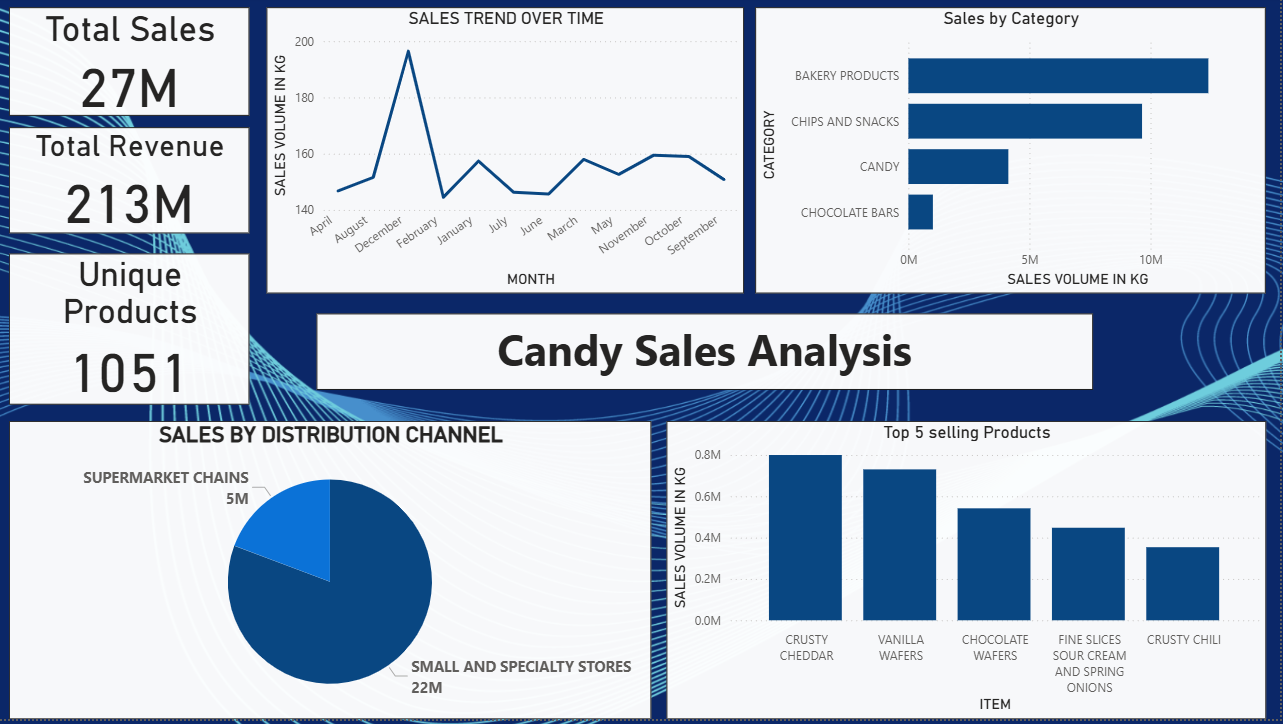

What the dashboard file says about the page in this screenshot:
{"tool":"powerbi","page":{"name":"Page 1","canvas":[1280,720],"ordinal":0},"visuals":[{"type":"clusteredColumnChart","title":"Top 5 selling Products","fields":{"Category":["Data.ITEM"],"Y":["Sum(Data.SALES VOLUME IN KG)"]},"box":[669.8,423.3,596.5,296.5],"z":0},{"type":"lineChart","title":"SALES TREND OVER TIME","fields":{"Category":["Data.MONTH","Data.YEAR"],"Y":["Avg(Data.SALES VOLUME IN KG)"]},"box":[270.9,11.6,475.6,284.9],"z":1000},{"type":"barChart","title":"Sales by Category","fields":{"Y":["Sum(Data.SALES VOLUME IN KG)"],"Category":["Data.CATEGORY"]},"box":[758.1,11.6,508.1,284.9],"z":2000},{"type":"card","title":"Total Sales","fields":{"Values":["Sum(Data.SALES VOLUME IN KG)"]},"box":[15.1,11.6,239.5,108.1],"z":3000},{"type":"card","title":"Total Revenue","fields":{"Values":["Sum(Data.SALES VOLUME  in EUR)"]},"box":[15.1,130.2,239.5,105.8],"z":4000},{"type":"card","title":"Unique Products","fields":{"Values":["Count(Data.SALES VOLUME IN KG)"]},"box":[15.1,255.8,239.5,150],"z":5000},{"type":"pieChart","title":"SALES BY DISTRIBUTION CHANNEL","fields":{"Y":["Sum(Data.SALES VOLUME IN KG)"],"Category":["Data.DISTRIBUTION CHANNEL"]},"box":[15.1,423.3,639.5,296.5],"z":6000},{"type":"textbox","box":[320.5,316.1,772.7,76.1],"z":7000}]}

Visuals, with their boxes in screenshot pixels (x1, y1, x2, y2), scaled from the page's 1280x720 canvas onto the 1283x724 screenshot:
"Top 5 selling Products" clusteredColumnChart: <bbox>671, 426, 1269, 723</bbox>
"SALES TREND OVER TIME" lineChart: <bbox>272, 12, 748, 298</bbox>
"Sales by Category" barChart: <bbox>760, 12, 1269, 298</bbox>
"Total Sales" card: <bbox>15, 12, 255, 120</bbox>
"Total Revenue" card: <bbox>15, 131, 255, 237</bbox>
"Unique Products" card: <bbox>15, 257, 255, 408</bbox>
"SALES BY DISTRIBUTION CHANNEL" pieChart: <bbox>15, 426, 656, 723</bbox>
textbox: <bbox>321, 318, 1096, 394</bbox>
